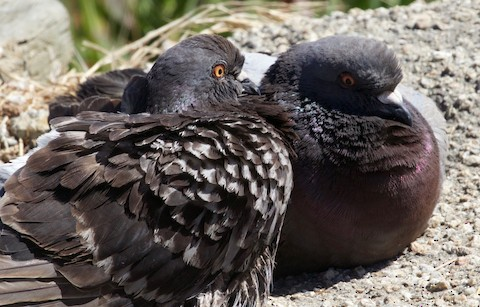pigeon: (46, 33, 450, 294), (12, 34, 286, 300)
